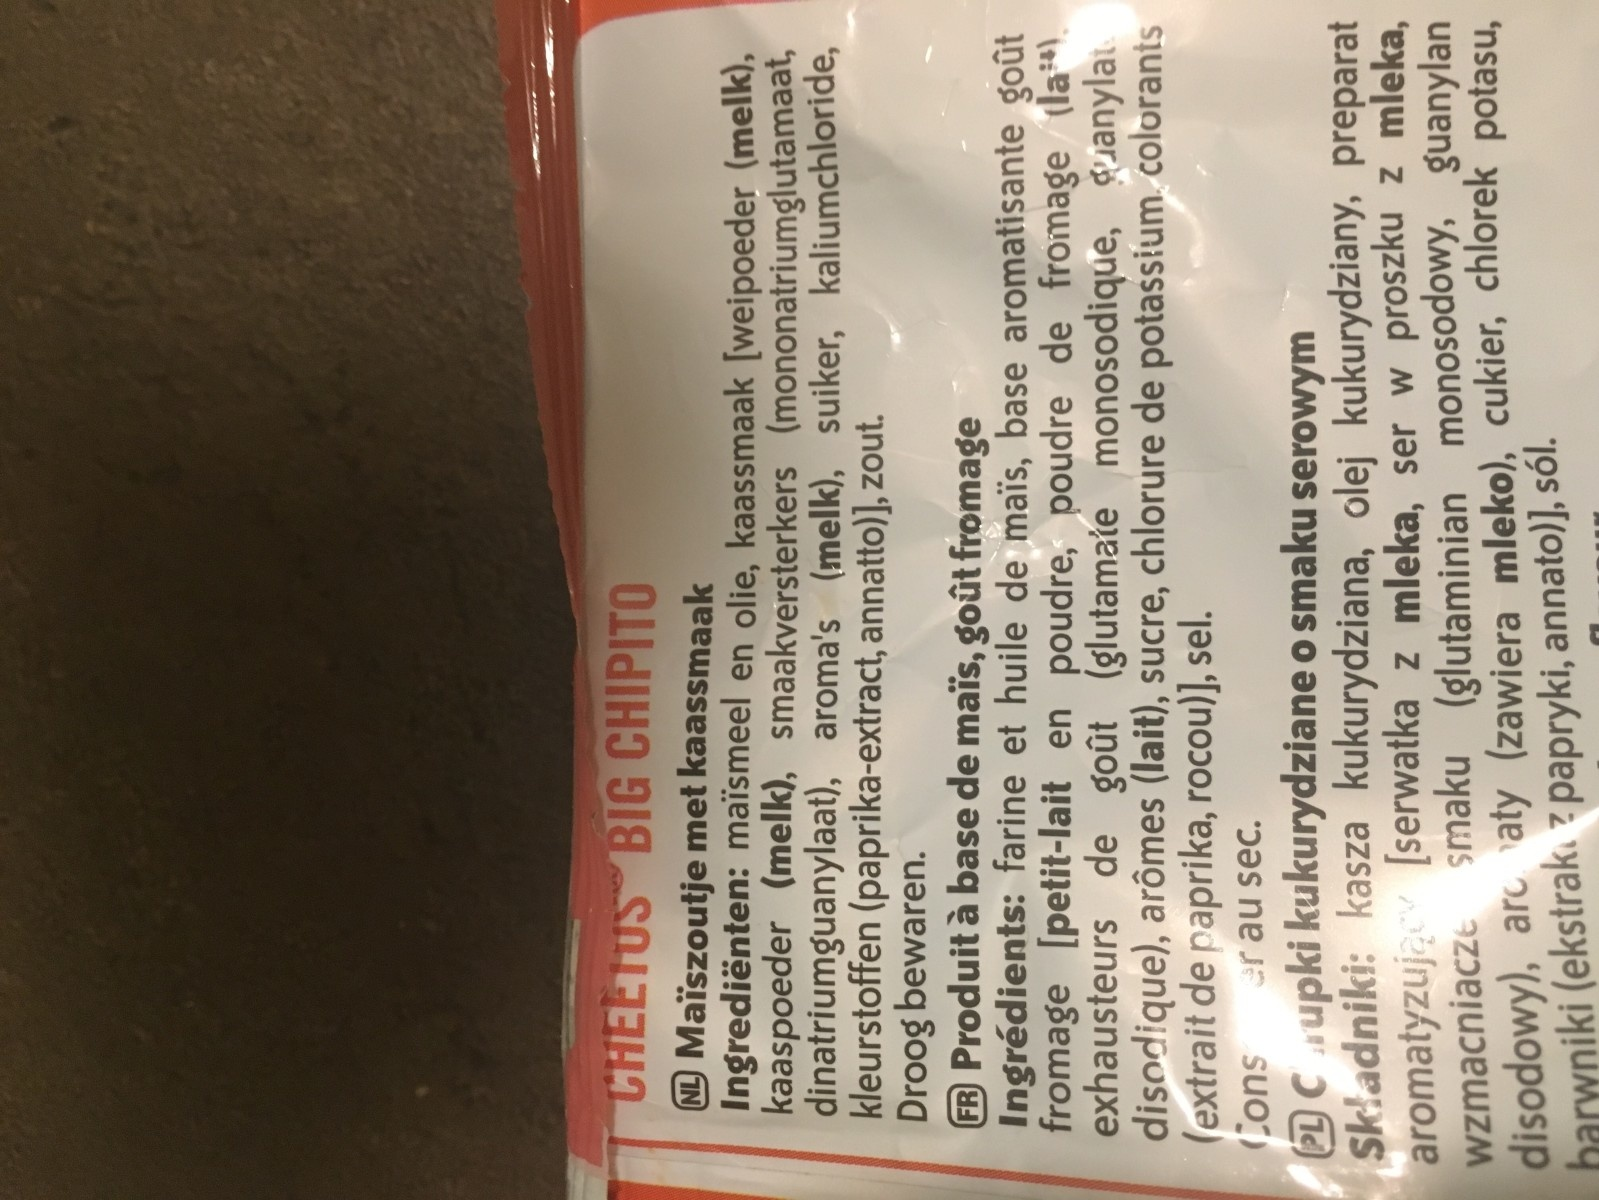ingredients: (989, 1, 1274, 1139), (1327, 1, 1586, 1160), (713, 1, 934, 1127)
